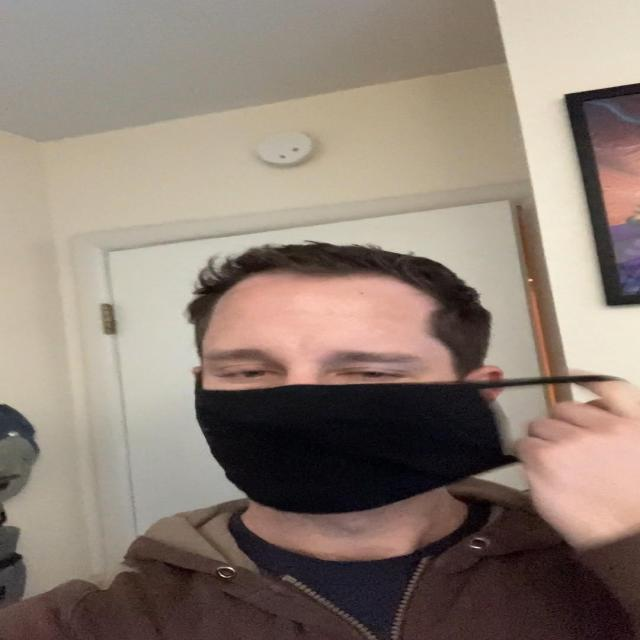no hat: (174, 246, 498, 514)
